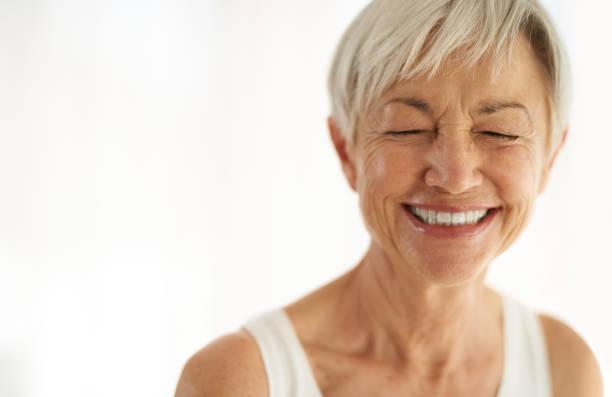Dry-Skin: (356, 115, 402, 221), (500, 140, 546, 244)
